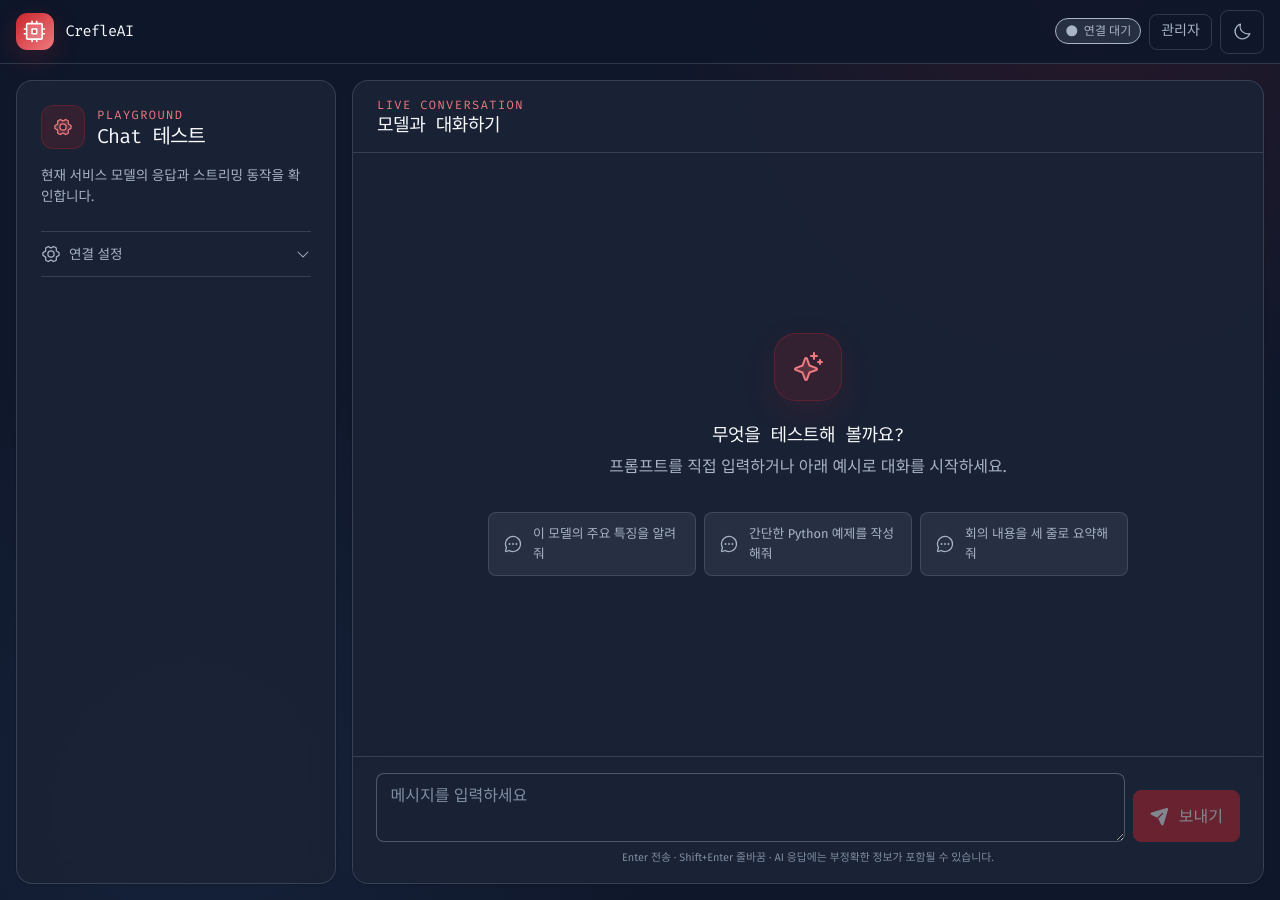
Test case: 대화가 쌓이면 문자 수 근사치로 사용량이 늘어난다
In the text box labelled "메시지": (750, 808) [376, 773, 1125, 842], type "안녕하세요"
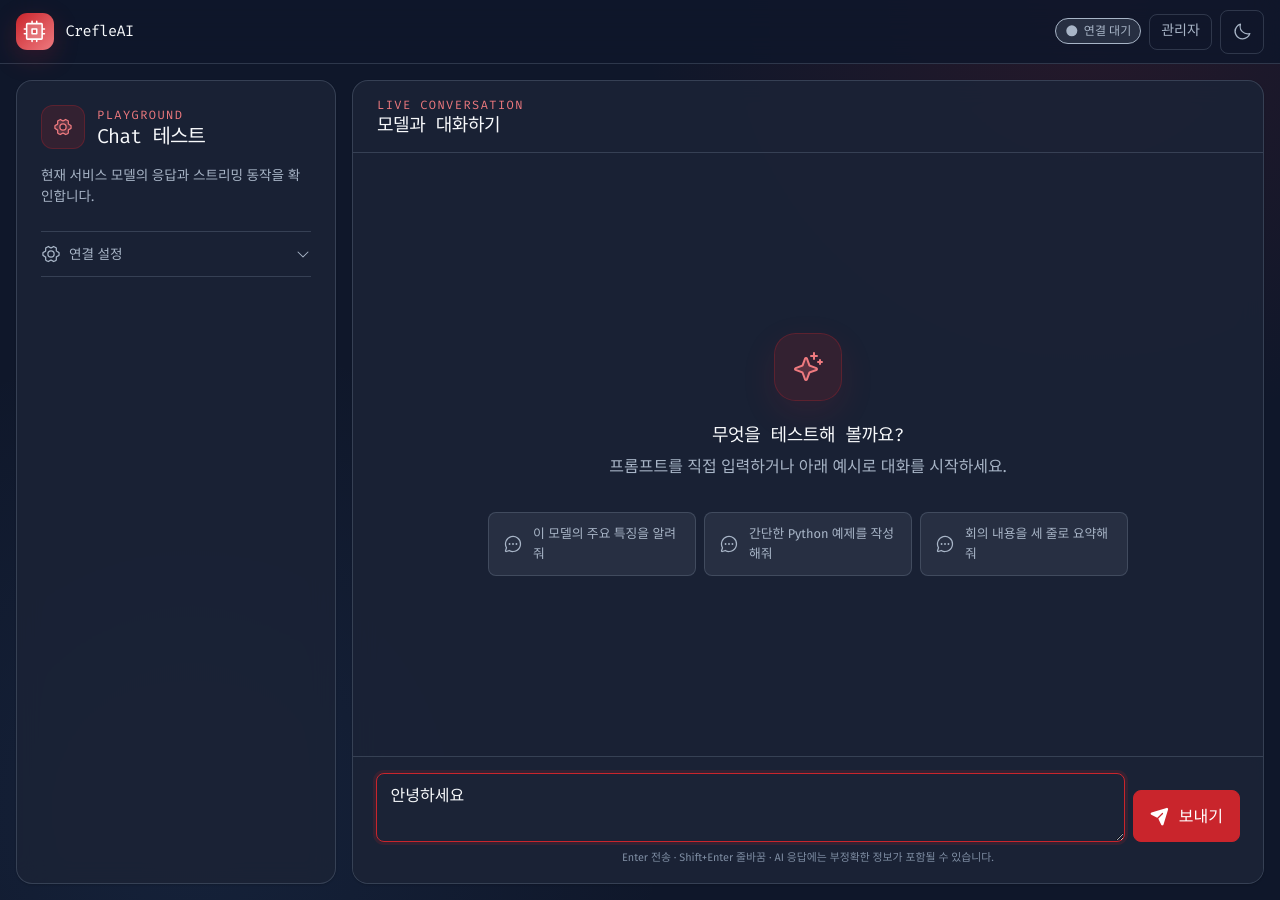
Click the button "보내기": (1186, 816) [1133, 790, 1240, 842]
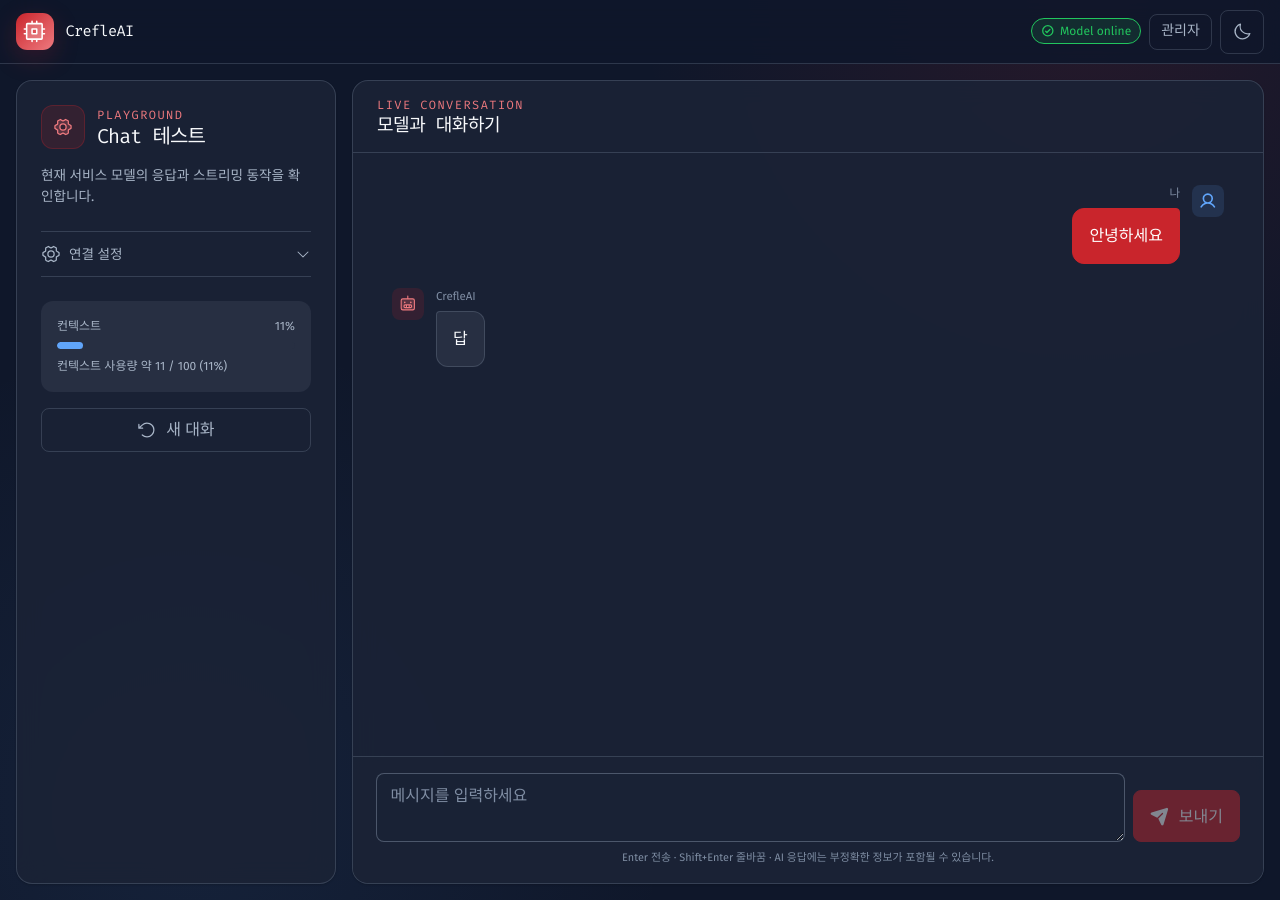
Check: the text "컨텍스트 사용량 약 11 / 100 (11%)" is shown, box [57, 359, 227, 373]
